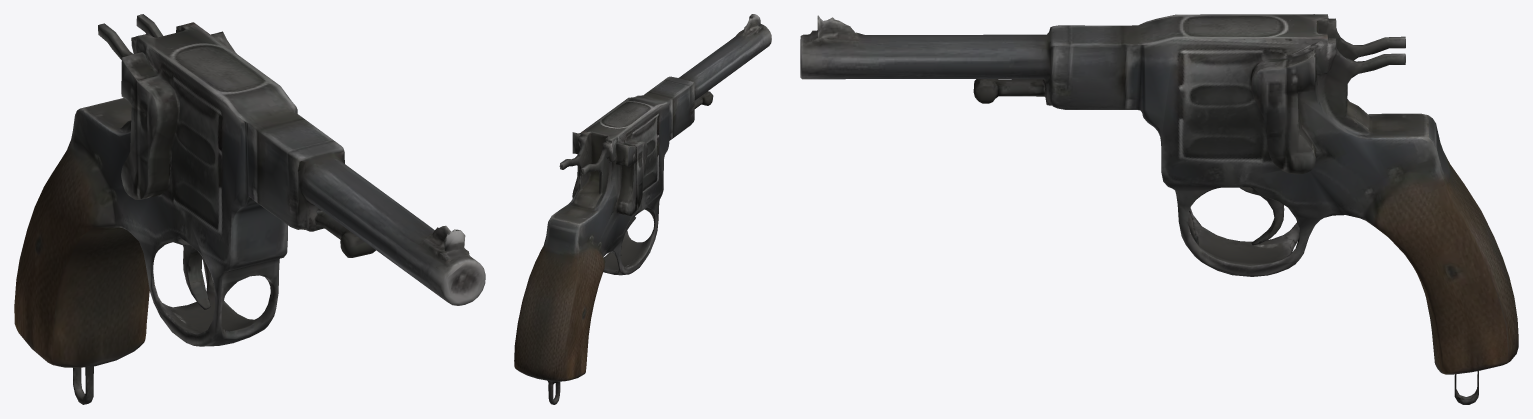
Rendered from weapon_nagant.glb.
The picture shows the model from 3 angles, left to right: view 1: azimuth 30°, elevation 25°; view 2: azimuth 150°, elevation 25°; view 3: azimuth 270°, elevation 25°; orthographic projection. The views are drawn at different scales.
Visible parts, largest first — view 1: weapon_nagant; view 2: weapon_nagant; view 3: weapon_nagant.
Boxes of the visible parts, x1,y1,x2,y2 form: weapon_nagant: [14, 14, 485, 404]; weapon_nagant: [514, 14, 771, 404]; weapon_nagant: [800, 14, 1518, 404].
Size of the model in its own units: 0.0348 by 0.1406 by 0.235.
1 material, 1 textured.
